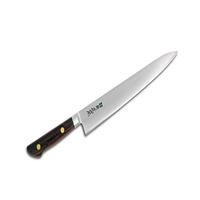knife: (22, 48, 184, 161)
